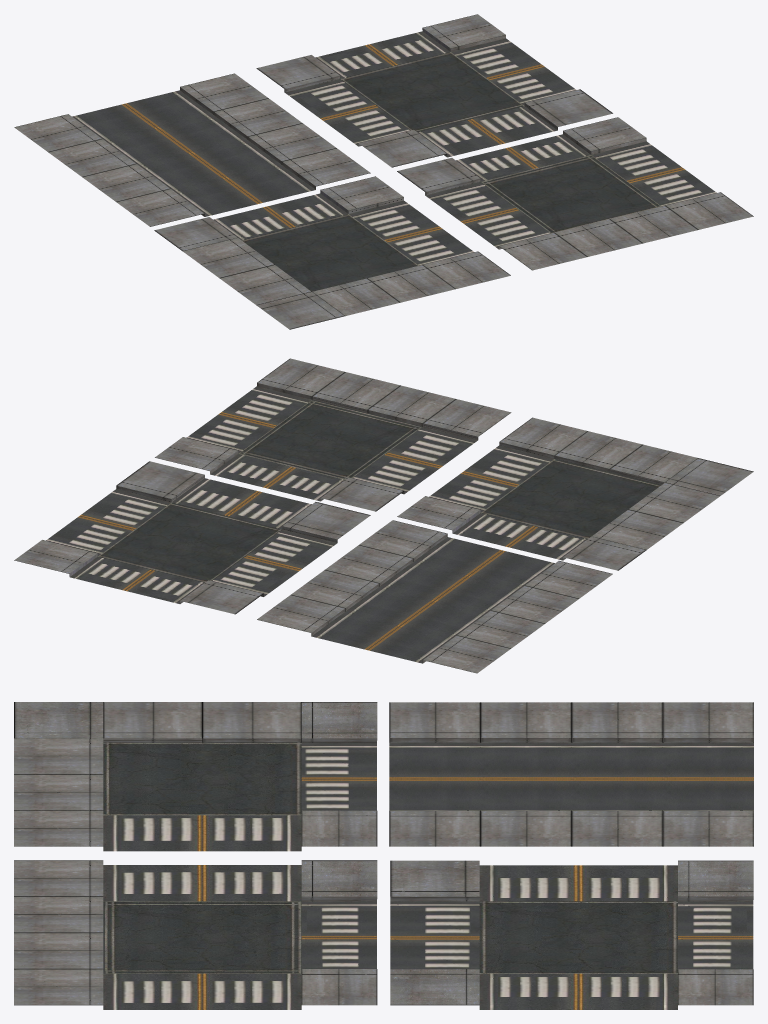
Rendered from showroom2.glb.
3 renders of one model, top to bottom at view 1: azimuth 30°, elevation 25°; view 2: azimuth 150°, elevation 25°; view 3: azimuth 270°, elevation 25°, orthographic. The views are drawn at different scales.
Parts seen in each view (by area): view 1: Object_6, Object_5, Object_4, Object_2, Object_3; view 2: Object_6, Object_5, Object_4, Object_2, Object_3; view 3: Object_6, Object_5, Object_4, Object_2, Object_3.
Part boxes in pixels (x1,y1,x2,y2): Object_6: (154,14,753,329); Object_5: (213,31,716,265); Object_4: (241,52,661,291); Object_2: (14,73,370,226); Object_3: (72,90,315,216); Object_6: (14,358,753,614); Object_5: (46,386,587,603); Object_4: (98,399,661,582); Object_2: (257,520,612,673); Object_3: (312,537,554,663); Object_6: (14,702,753,1005); Object_5: (103,742,753,1009); Object_4: (103,742,677,973); Object_2: (389,702,753,846); Object_3: (389,742,753,810).
Size of the model in its own units: 14.89 by 0.1054 by 15.35.
5 materials, 5 textured.
